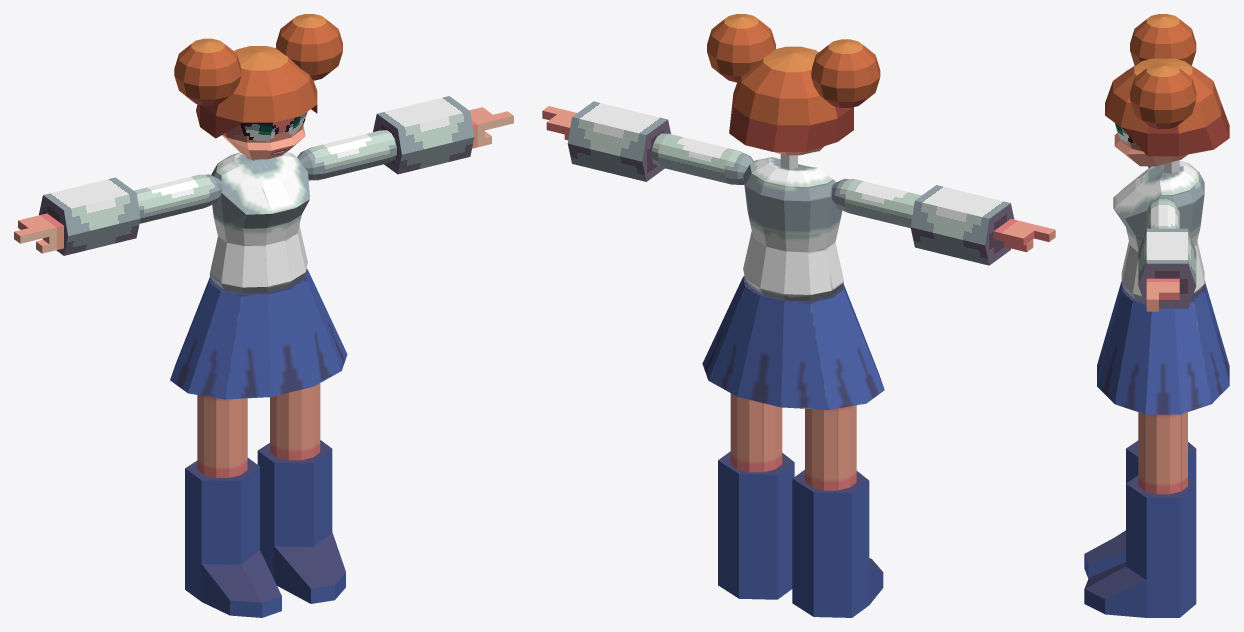
File: Human.fbx
The picture shows the model from 3 angles, left to right: view 1: azimuth 30°, elevation 25°; view 2: azimuth 150°, elevation 25°; view 3: azimuth 270°, elevation 25°; orthographic projection. The views are drawn at different scales.
Parts seen in each view (by area): view 1: skirt, torso, feet, feet_1, hairs, hand_1, hand, thigh, pompon, thigh_1, biceps_1, pompon_1 (+4 smaller); view 2: skirt, torso, feet, feet_1, hairs, hand, hand_1, thigh, pompon, thigh_1, biceps_1, pompon_1 (+3 smaller); view 3: skirt, feet_1, hairs, torso, thigh_1, hand_1, pompon_1, pompon, feet, head, biceps_1, cuboid_3.
Part boxes in pixels (x1,y1,x2,y2): skirt: (170,269,347,399); torso: (209,152,309,293); feet: (185,458,281,617); feet_1: (257,440,345,603); hairs: (196,46,317,138); hand_1: (373,96,474,174); hand: (39,177,140,255); thigh: (197,395,247,477); pompon: (174,38,241,105); thigh_1: (270,383,320,460); biceps_1: (297,130,396,180); pompon_1: (276,14,342,80); skirt: (702,276,884,409); torso: (743,157,843,300); feet: (792,470,883,617); feet_1: (718,451,794,599); hairs: (729,46,853,151); hand: (910,185,1014,265); hand_1: (567,101,670,181); thigh: (805,405,856,490); pompon: (811,39,880,107); thigh_1: (730,393,782,472); biceps_1: (651,133,753,184); pompon_1: (707,14,775,82); skirt: (1097,281,1229,414); feet_1: (1084,475,1196,617); hairs: (1105,58,1229,156); torso: (1113,161,1204,301); thigh_1: (1138,412,1187,494); hand_1: (1138,228,1196,308); pompon_1: (1130,63,1196,128); pompon: (1130,14,1196,65); feet: (1084,440,1196,578); head: (1114,123,1187,166); biceps_1: (1146,198,1179,228); cuboid_3: (1146,278,1179,311).
Size of the model in its own units: 425 by 453 by 109.
11 materials, 11 textured.
